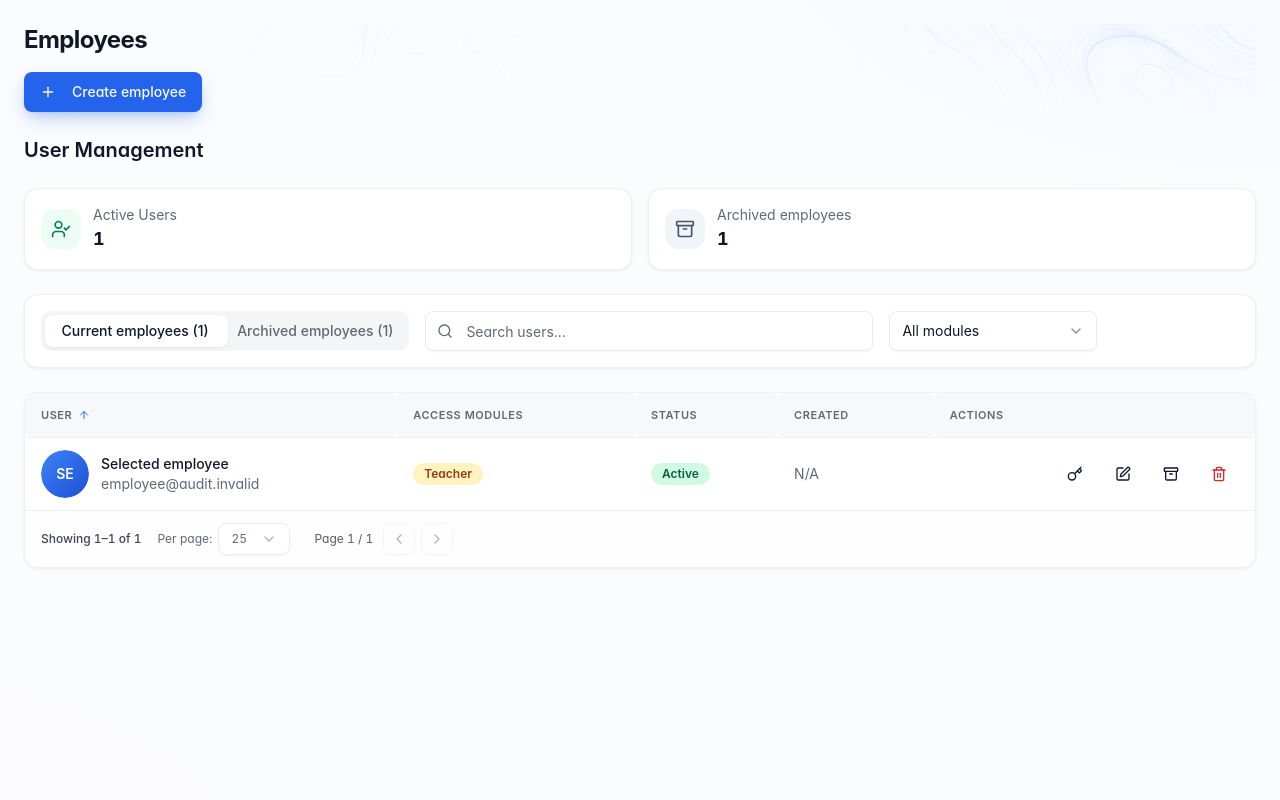
Test: includes legacy inactive employees in the archive and restores them after confirmation
Expected: the text "Previously inactive employee" is not shown
Press the mouse on the tab "Archived employees (1)" at x=315, y=331, box [225,315,405,347]
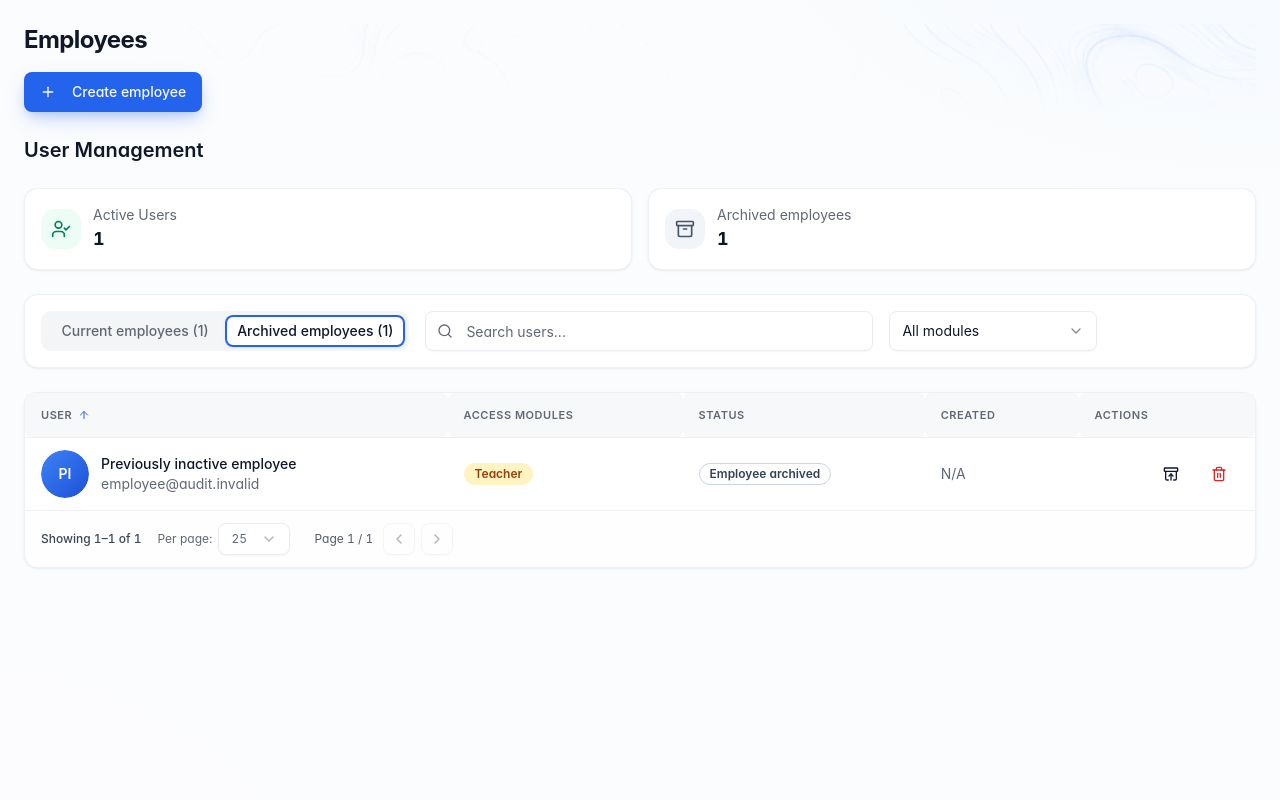
Click the button named "Restore employee". click: x=1171, y=474
box: [1151,456,1191,492]
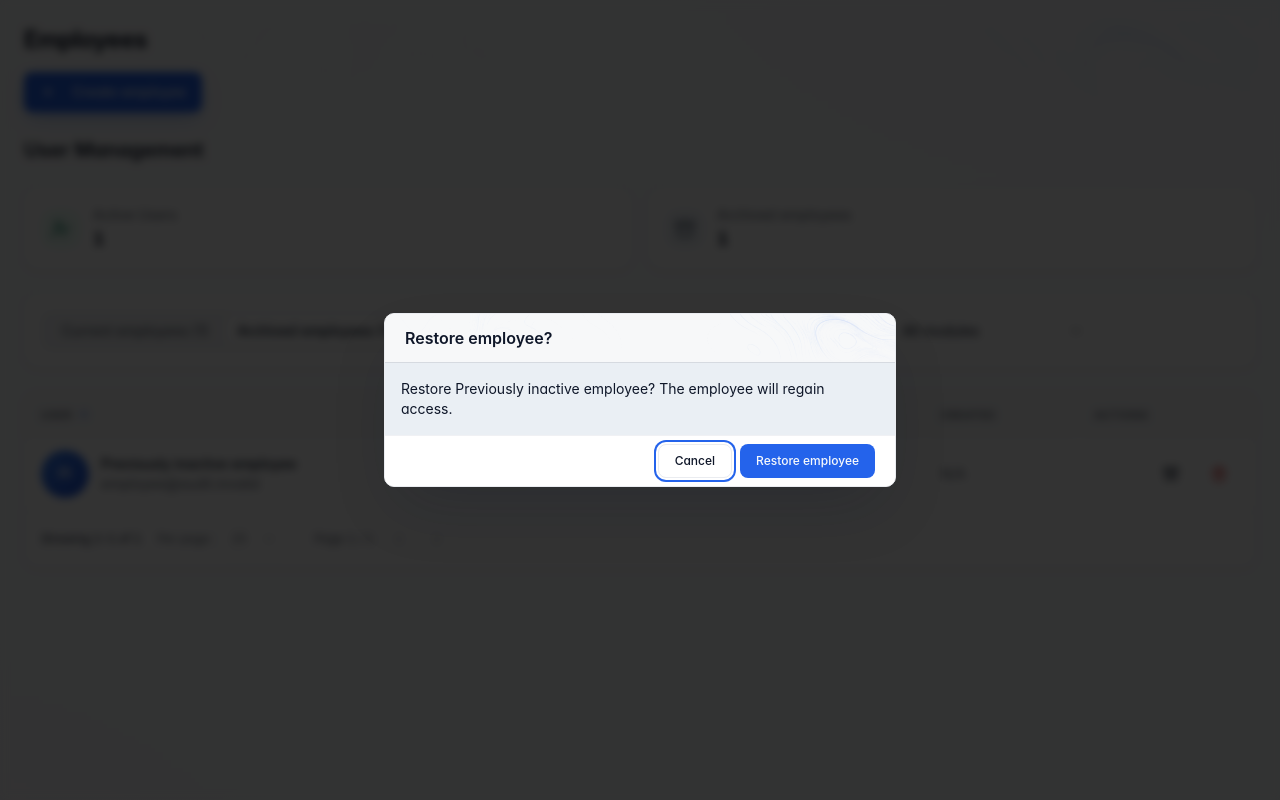
Click the button "Restore employee". click: x=808, y=461
box: [740,444,875,478]
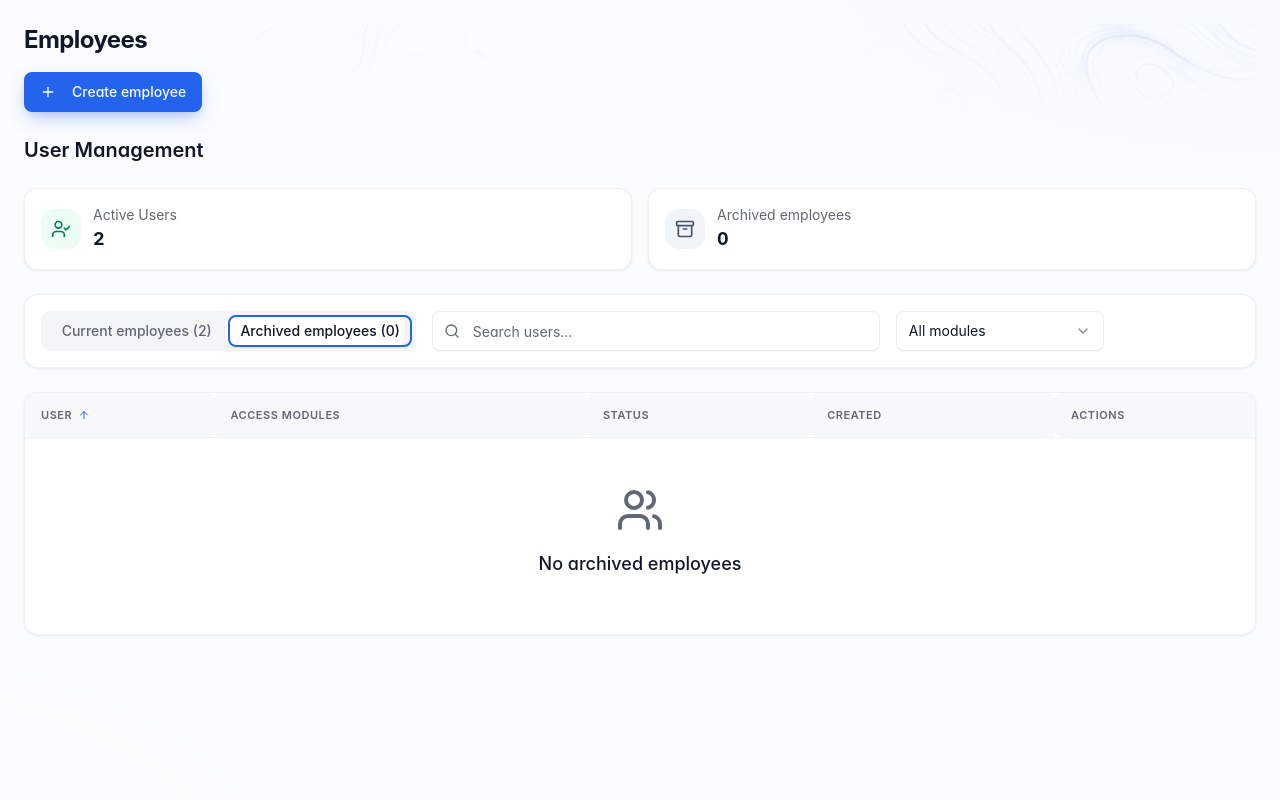
Press the mouse on the tab "Current employees (2)" at x=137, y=331, box [45,315,228,347]
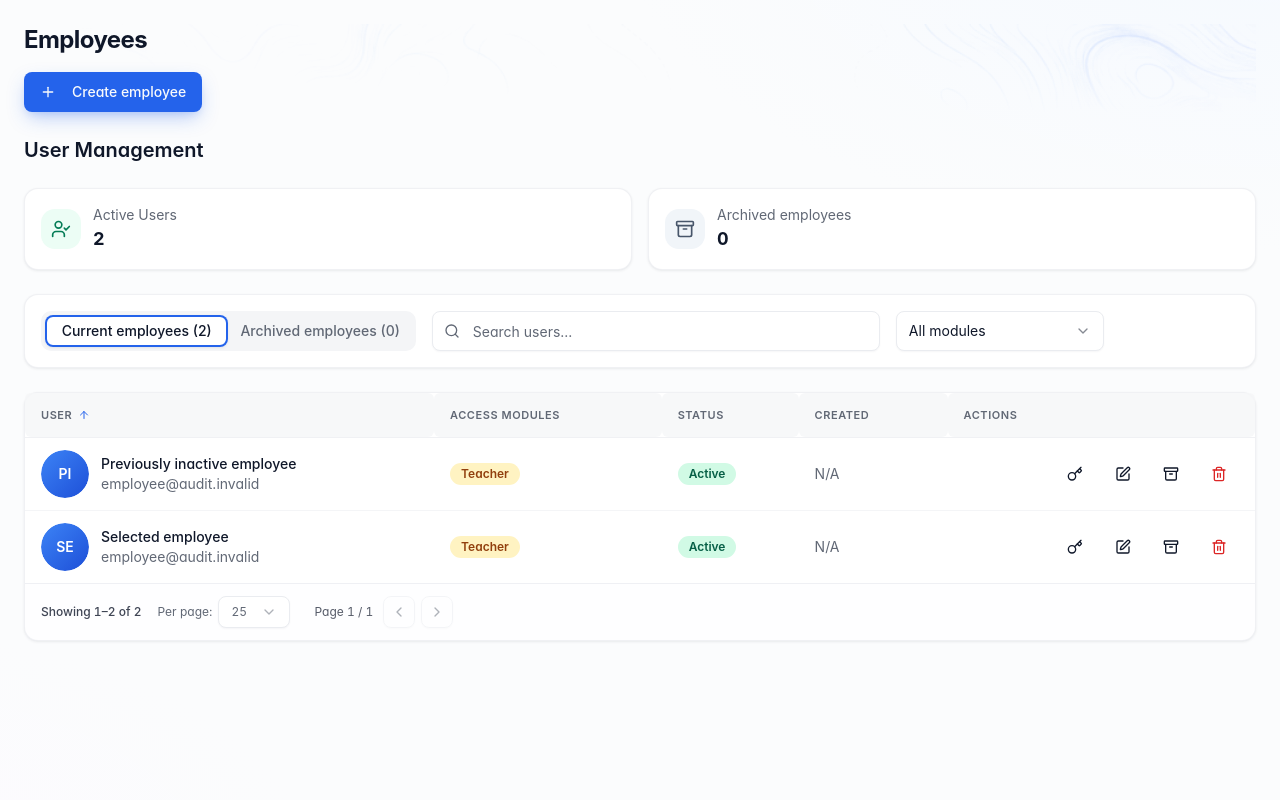
Expected: the text "Previously inactive employee" is shown, [101,454,296,474]
